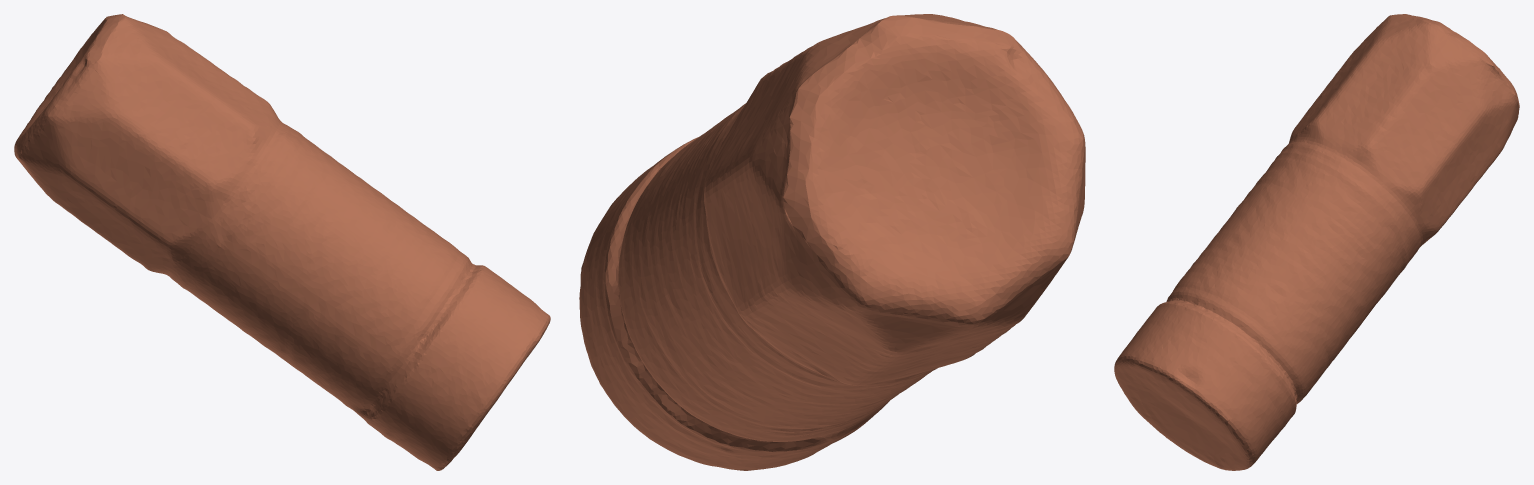
The model's file is Curry_25k4.fbx.
3 views of the same model, side by side, from view 1: azimuth 30°, elevation 25°; view 2: azimuth 150°, elevation 25°; view 3: azimuth 270°, elevation 25° (orthographic). The views are drawn at different scales.
Visible parts, largest first — view 1: Curry_25k4; view 2: Curry_25k4; view 3: Curry_25k4.
Boxes of the visible parts, box(x1,y1,x2,y2) form: Curry_25k4: box(14, 14, 550, 470); Curry_25k4: box(579, 14, 1085, 470); Curry_25k4: box(1114, 14, 1519, 470).
Size of the model in its own units: 3721 by 3564 by 3665.
